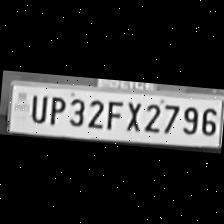2: (141, 98, 163, 134), (84, 96, 106, 130)
3: (64, 94, 86, 128)
6: (197, 104, 220, 138)
7: (158, 101, 179, 135)
9: (177, 102, 200, 137)
F: (102, 97, 124, 131)
P: (44, 93, 66, 127)
U: (26, 90, 48, 124)
X: (121, 98, 144, 134)
